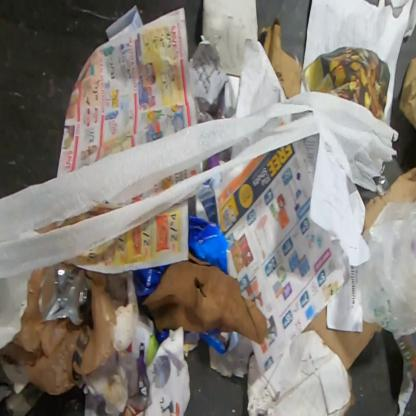cardboard: (140, 250, 268, 346), (246, 330, 356, 415), (301, 304, 383, 372), (363, 166, 416, 231), (260, 23, 304, 100), (398, 57, 416, 130)
metal: (37, 264, 88, 326)
rigid_plastic: (133, 264, 171, 296)
soft_plastic: (12, 262, 120, 396), (189, 214, 229, 274), (156, 329, 169, 346)
